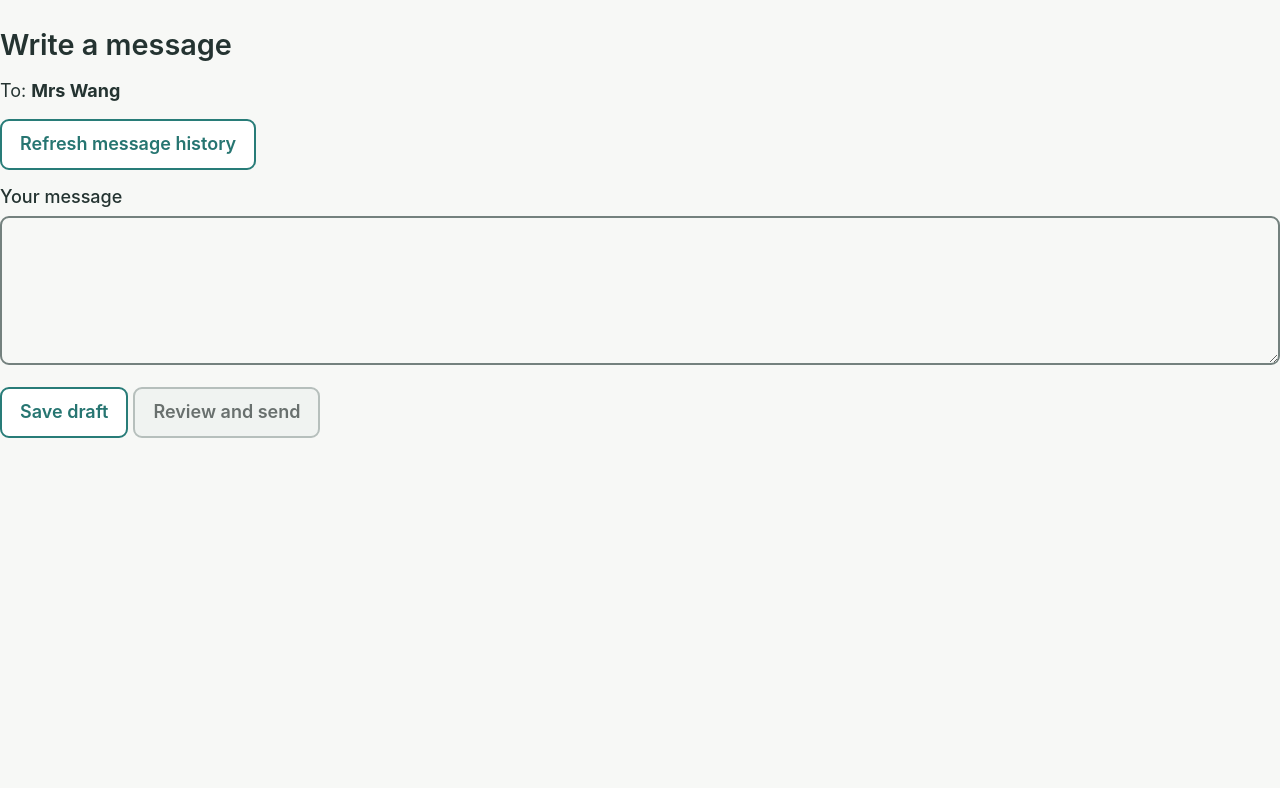
Test case: MessagePanel (Doc 20 §158–161 send confirmation) › draft and send are separate; confirmation shows exact recipient and message version
Check: the button "Review and send" is disabled, box [133,387,320,438]
Type "Hello — see you on Thursday." into the text box labelled "Your message" at (640, 291), box [0,216,1279,365]
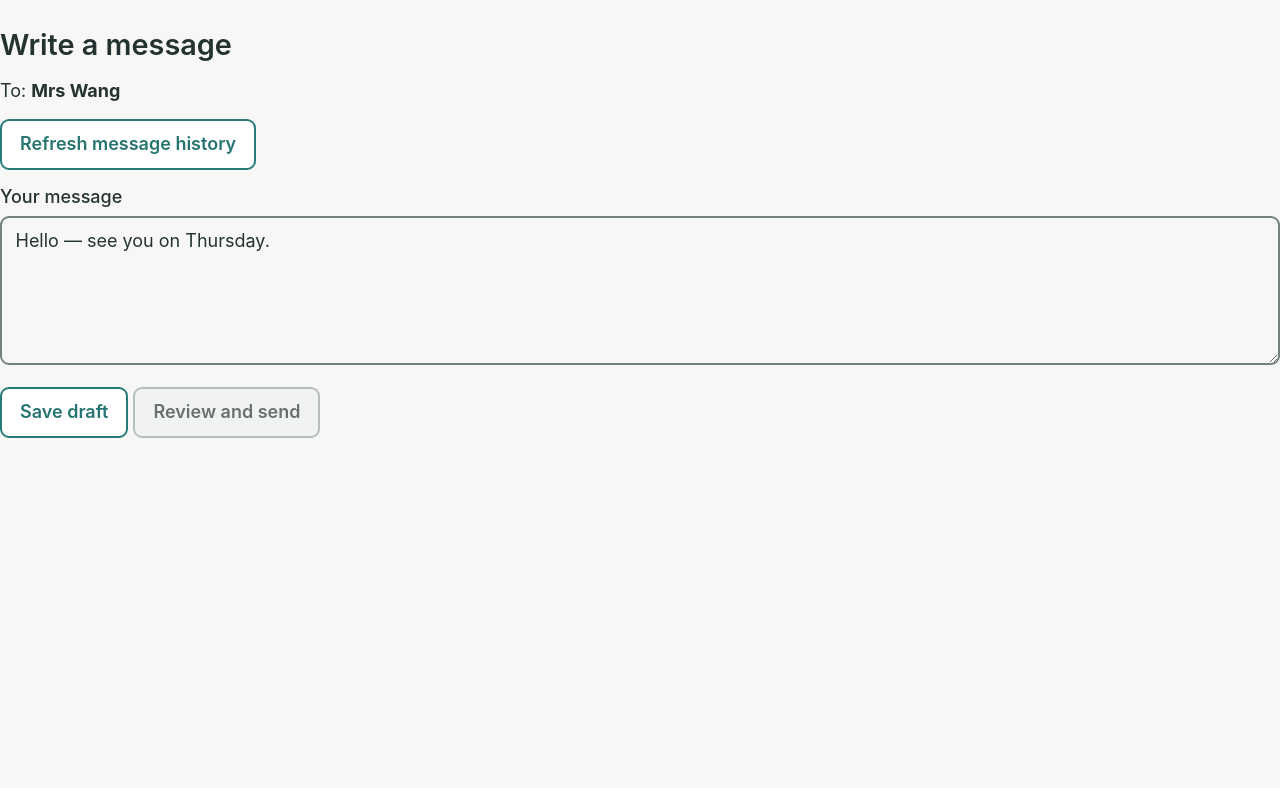
Click the button "Save draft" at (64, 413), box [0,387,128,438]
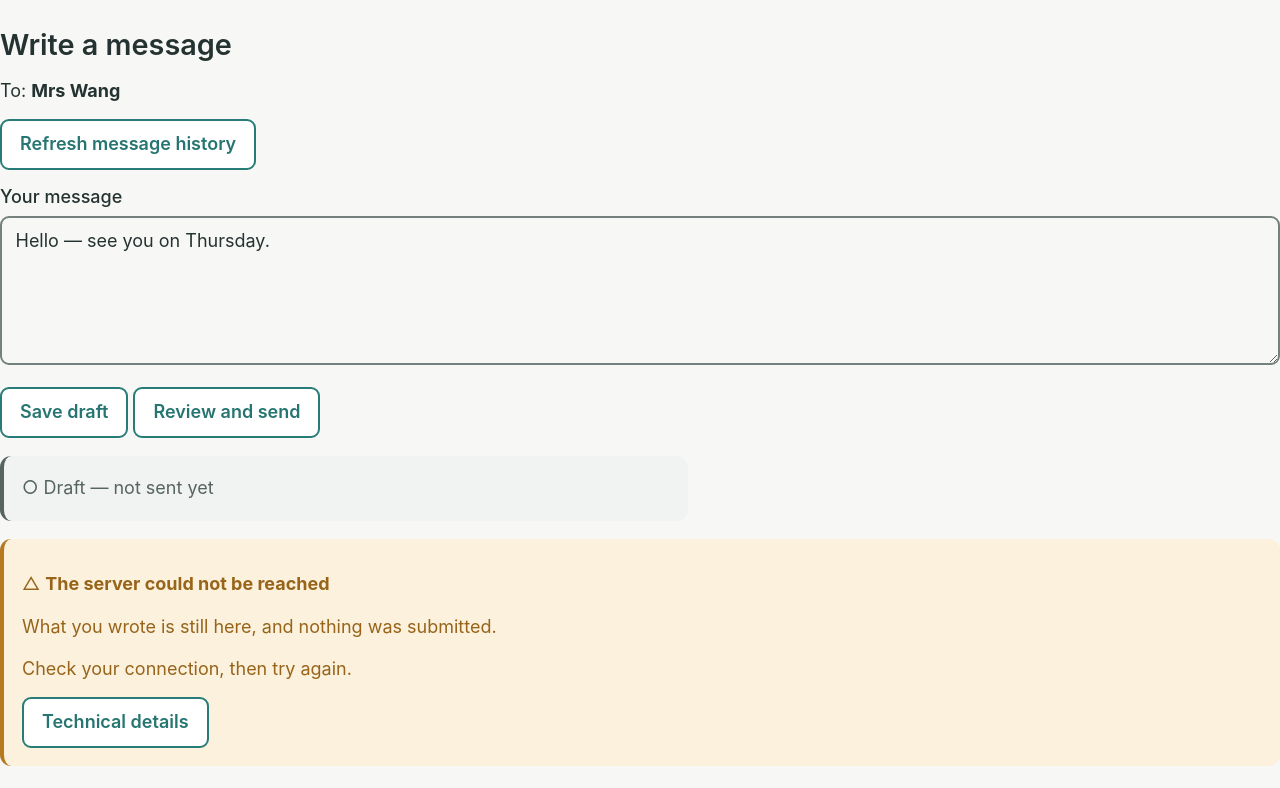
Click the button "Review and send" at (227, 413), box [133,387,320,438]
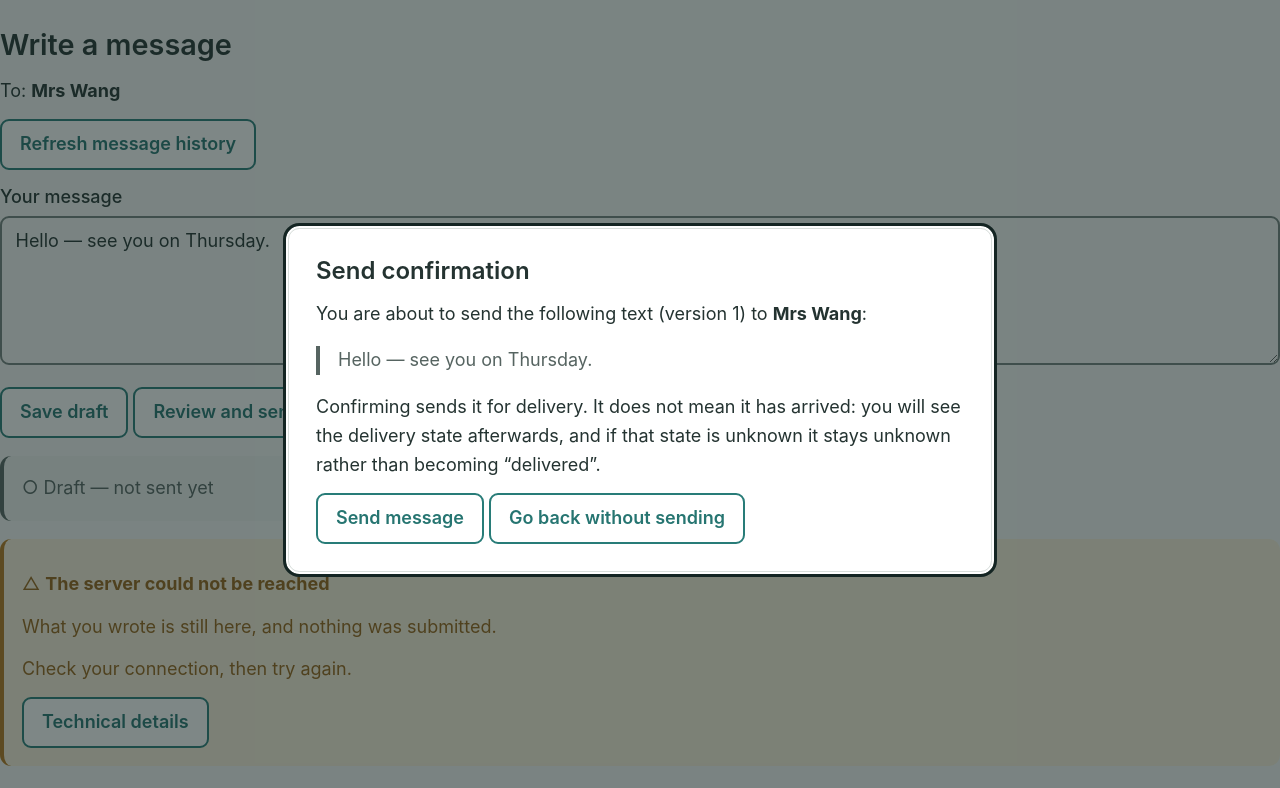
Check: the dialog shows "Mrs Wang", box [773,303,862,324]
Check: the dialog shows "1", box [732,303,740,324]
Check: the dialog shows "Hello — see you on Thursday.", box [338,349,592,370]
